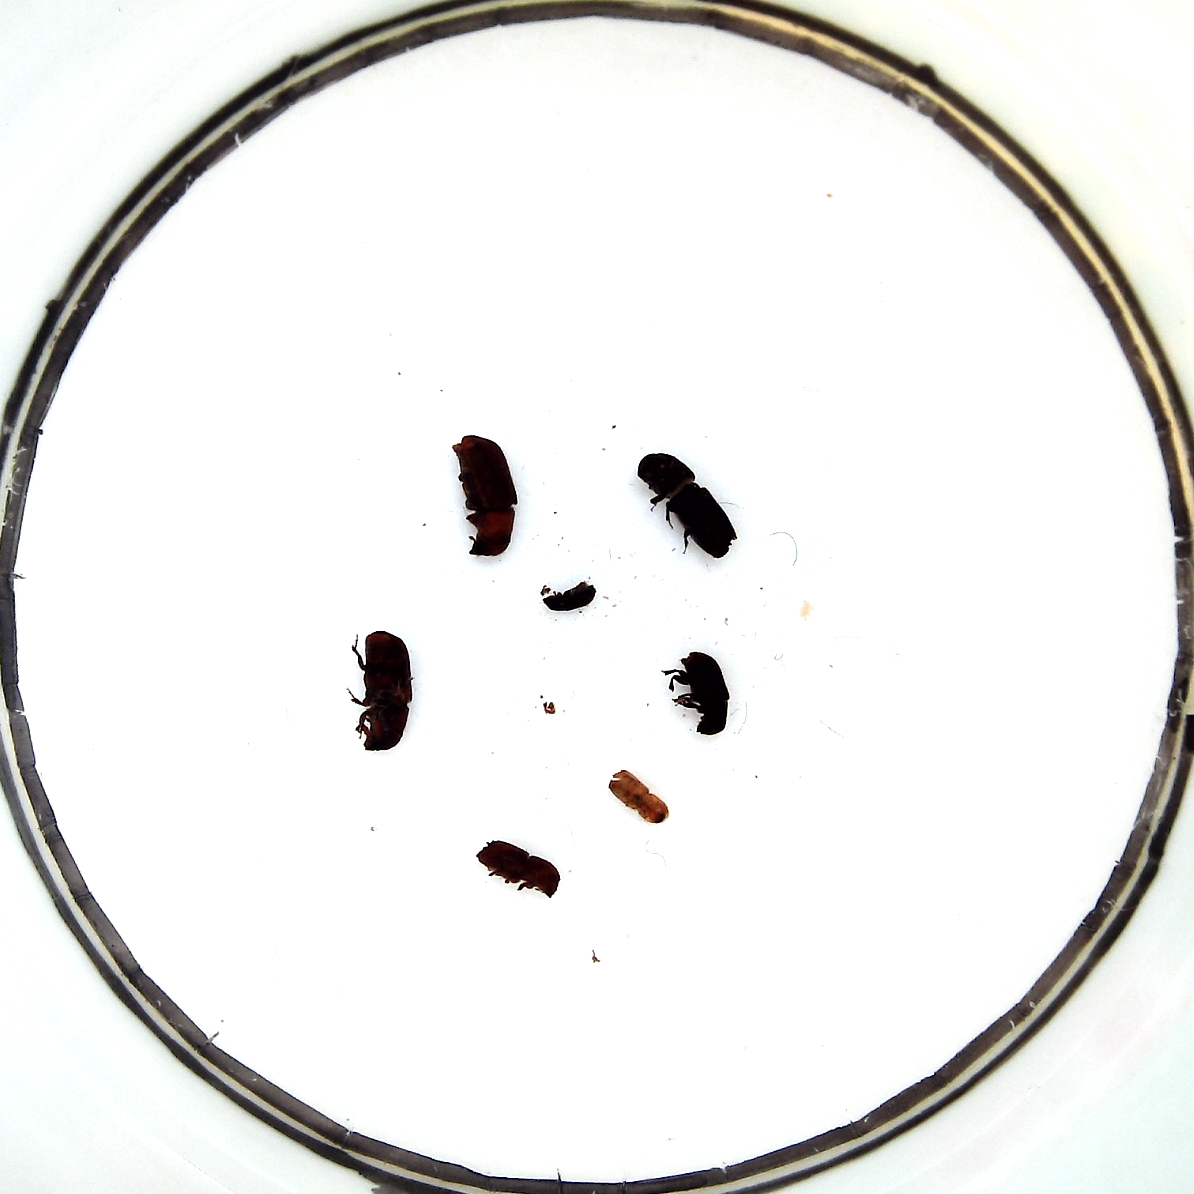Boerner: (639, 452, 736, 558)
Leconte: (454, 435, 518, 557), (361, 631, 412, 751)
acuminatus: (542, 582, 596, 611)
armandi: (680, 652, 730, 735)
coleoptera: (610, 770, 669, 824)
linnaeus: (476, 840, 562, 899)
